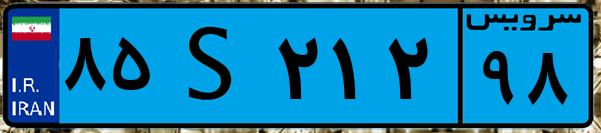1: (330, 28, 385, 110)
2: (270, 28, 330, 110), (385, 28, 445, 110)
5: (110, 28, 158, 98)
8: (57, 26, 110, 100), (525, 38, 570, 115)
9: (475, 38, 525, 113)
S: (158, 12, 270, 120)
